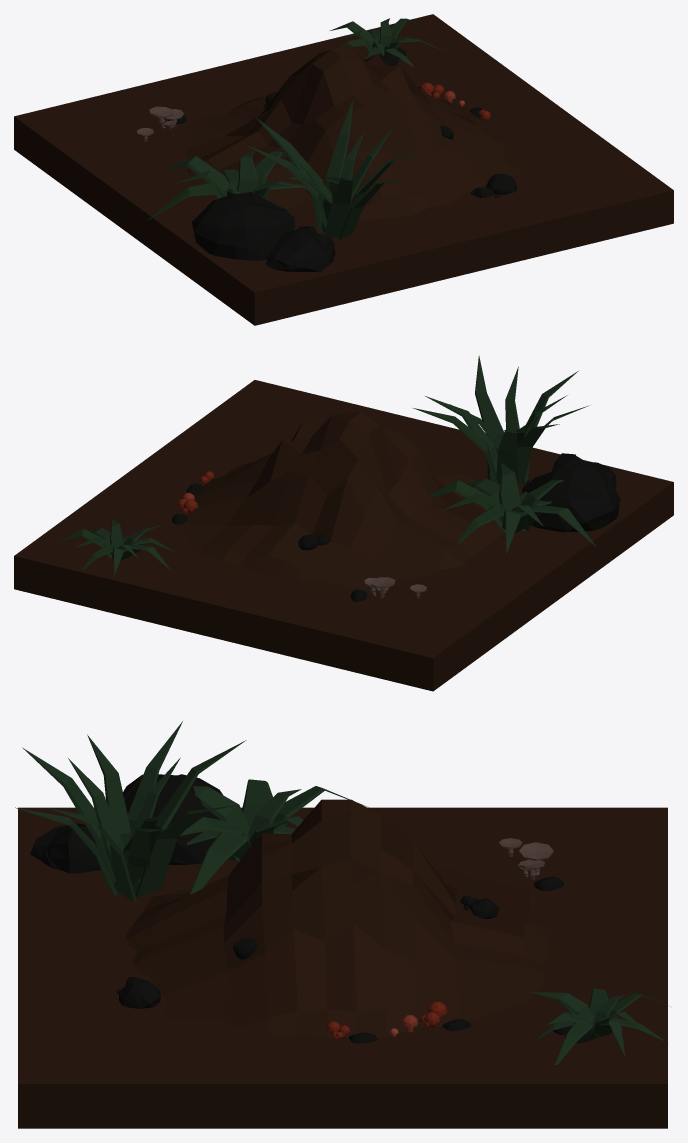
File: Duwende-Punso.obj
3 views of the same model, one above another, from view 1: azimuth 30°, elevation 25°; view 2: azimuth 150°, elevation 25°; view 3: azimuth 270°, elevation 25° (orthographic). The views are drawn at different scales.
Parts seen in each view (by area): view 1: Plane.001, Stone_group_average_mossy, Grass_bush_high_01, Grass_bush_low_01, Grass_bush_low_01.001, Stone_group_average.001, Mushroom_flat_group_white; view 2: Plane.001, Grass_bush_high_01, Stone_group_average_mossy, Grass_bush_low_01, Grass_bush_low_01.001; view 3: Plane.001, Grass_bush_high_01, Grass_bush_low_01, Stone_group_average_mossy, Grass_bush_low_01.001, Stone_group_average.001, Mushroom_flat_group_white, Stone_group_average.
Boxes of the visible parts, x1,y1,x2,y2 form: Plane.001: [14, 14, 673, 325]; Stone_group_average_mossy: [192, 191, 335, 272]; Grass_bush_high_01: [246, 99, 425, 239]; Grass_bush_low_01: [146, 151, 306, 230]; Grass_bush_low_01.001: [330, 18, 445, 66]; Stone_group_average.001: [471, 174, 517, 198]; Mushroom_flat_group_white: [149, 106, 183, 129]; Plane.001: [14, 380, 673, 691]; Grass_bush_high_01: [413, 355, 589, 486]; Stone_group_average_mossy: [522, 453, 620, 532]; Grass_bush_low_01: [429, 463, 596, 554]; Grass_bush_low_01.001: [56, 518, 175, 575]; Plane.001: [18, 799, 667, 1128]; Grass_bush_high_01: [15, 721, 246, 901]; Grass_bush_low_01: [180, 779, 373, 894]; Stone_group_average_mossy: [30, 774, 222, 873]; Grass_bush_low_01.001: [529, 988, 670, 1065]; Stone_group_average.001: [116, 977, 160, 1008]; Mushroom_flat_group_white: [517, 842, 553, 880]; Stone_group_average: [460, 895, 498, 918].
Bounding box in the file's own units: 8.3 × 2.5 × 8.07.
